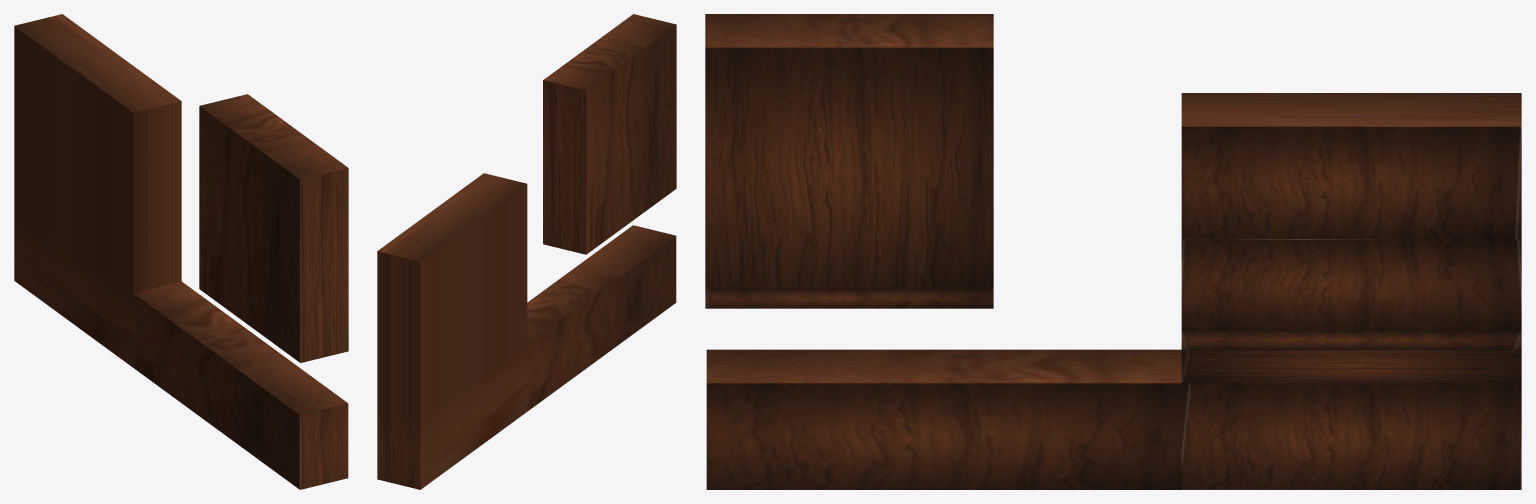
The model's file is nivel3.fbx.
3 views of the same model, side by side, from view 1: azimuth 30°, elevation 25°; view 2: azimuth 150°, elevation 25°; view 3: azimuth 270°, elevation 25° (orthographic). The views are drawn at different scales.
Visible parts, largest first — view 1: Cube.006; view 2: Cube.006; view 3: Cube.006.
Boxes of the visible parts, bbox=[...] form: Cube.006: bbox=[14, 14, 348, 489]; Cube.006: bbox=[377, 14, 676, 489]; Cube.006: bbox=[705, 14, 1521, 489].
Bounding box in the file's own units: 194 × 1190 × 1990.
